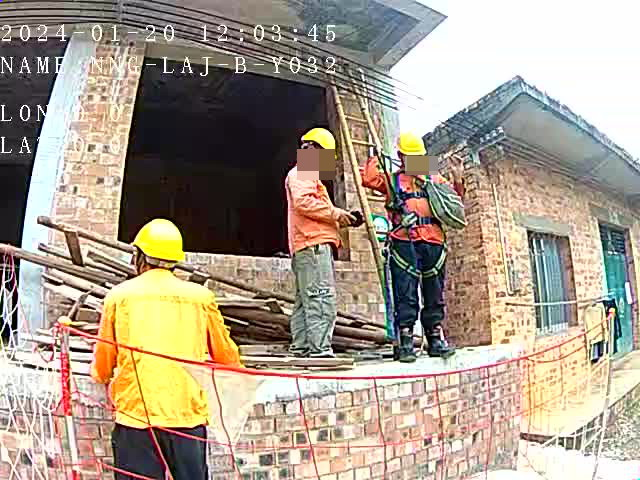downcloth: (105, 426, 217, 480), (292, 258, 343, 344)
downsuit: (385, 242, 450, 330), (388, 242, 446, 339)
halt: (133, 217, 185, 274), (298, 127, 337, 170), (394, 131, 426, 172)
hand: (336, 212, 356, 230)
inear: (307, 146, 320, 163)
person: (90, 213, 235, 480), (277, 124, 356, 356), (372, 129, 450, 348)
safebelt: (383, 165, 452, 282)
yupsuit: (92, 263, 244, 423), (363, 155, 458, 242), (284, 162, 344, 252)
